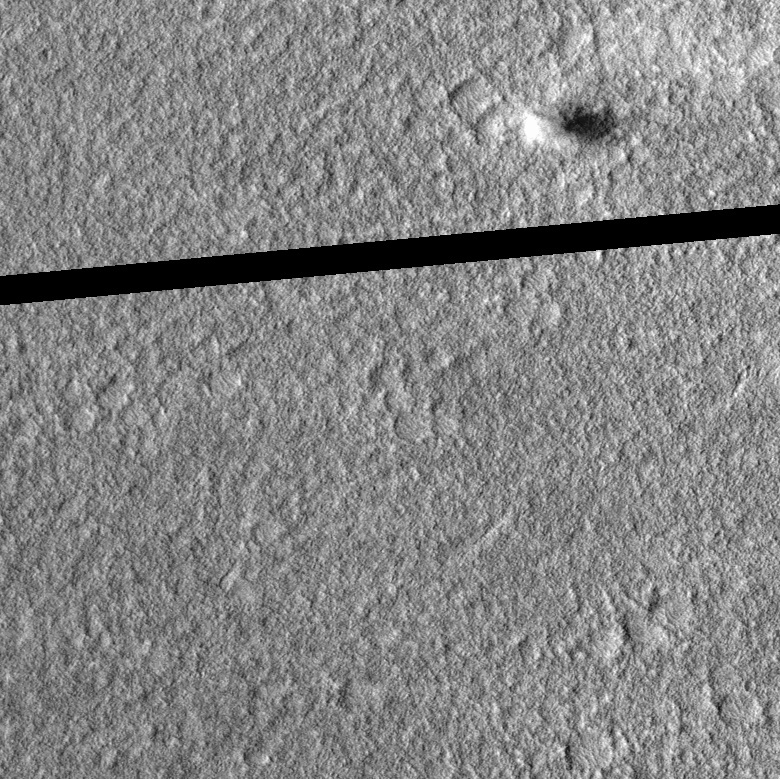dust_devil: (521, 94, 622, 154)
